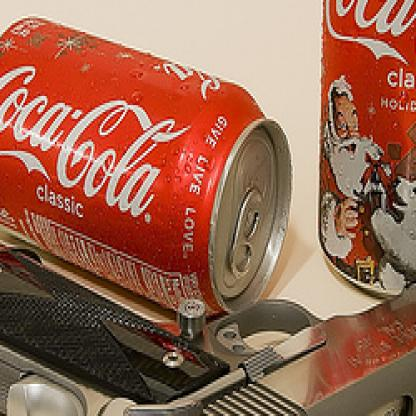gun: (0, 212, 415, 414)
